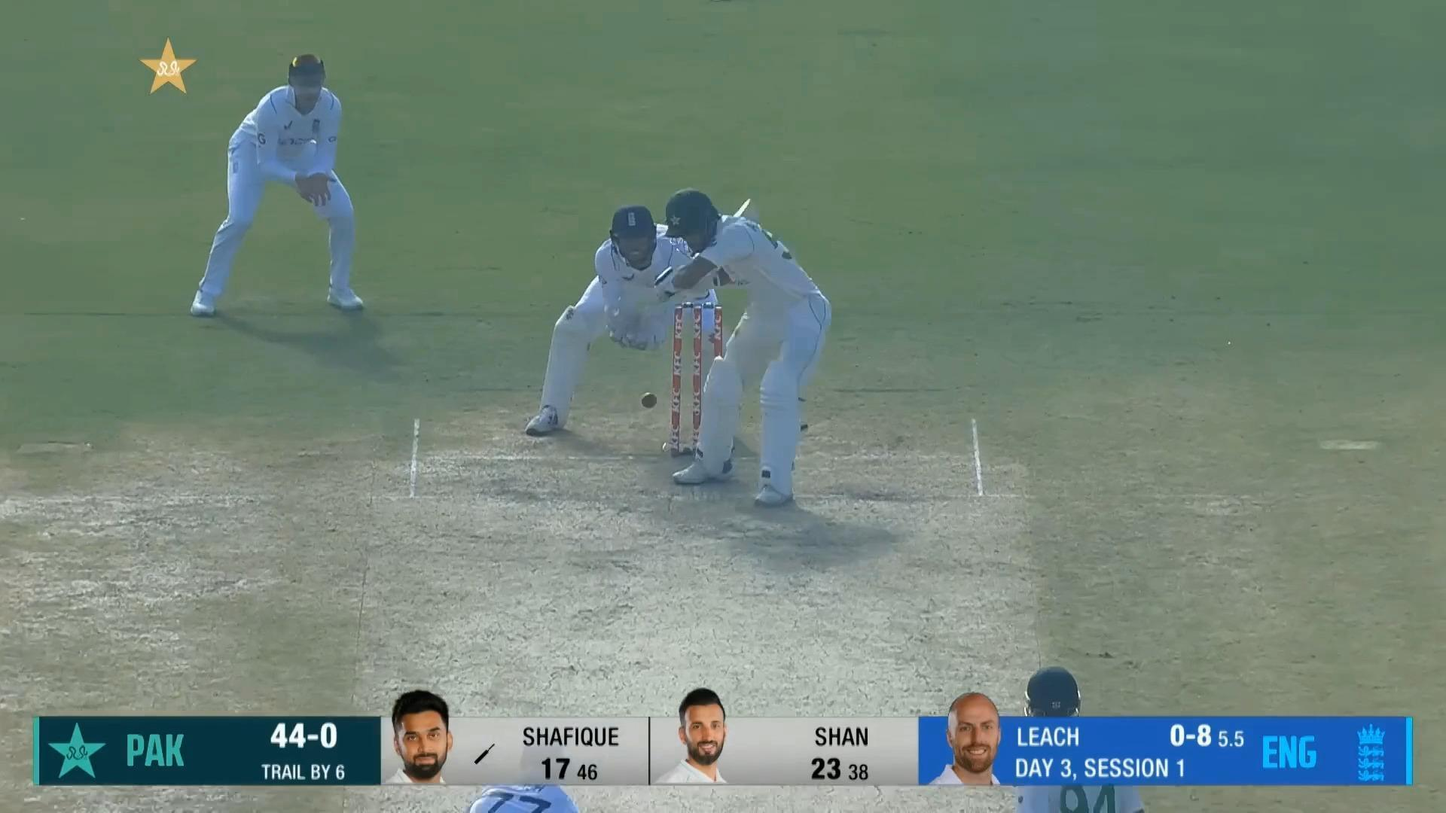BM 1: (652, 188, 831, 507)
BO: (463, 731, 587, 813)
